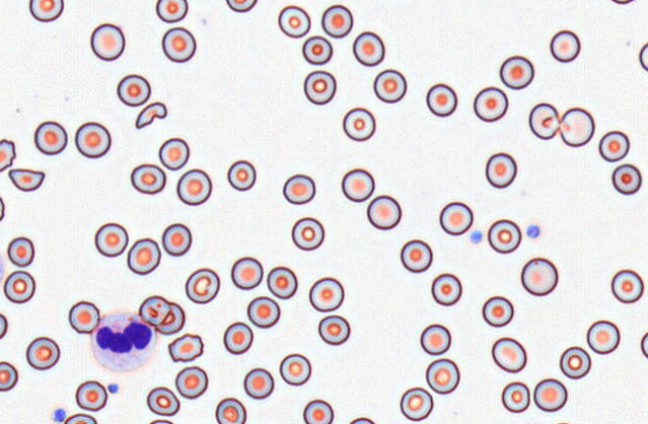GRAN: (91, 314, 154, 375)
PLT: (52, 409, 69, 423), (526, 222, 541, 237), (469, 230, 483, 243), (106, 383, 119, 394)
RBC: (520, 257, 558, 296), (559, 106, 595, 147), (74, 121, 111, 158), (90, 22, 125, 61), (176, 168, 212, 205), (308, 276, 344, 312), (127, 237, 161, 275), (491, 337, 526, 373), (366, 194, 401, 230), (473, 86, 508, 122), (161, 26, 196, 62), (425, 358, 459, 394), (185, 267, 219, 303), (25, 336, 60, 370), (399, 386, 433, 421), (94, 222, 128, 257), (487, 218, 521, 253), (610, 268, 644, 303), (586, 319, 620, 354), (373, 68, 407, 103), (33, 120, 67, 155), (499, 55, 534, 89), (174, 365, 208, 399), (533, 378, 567, 412), (439, 201, 473, 235), (342, 106, 375, 141), (528, 102, 559, 139), (246, 295, 280, 328), (341, 168, 374, 202), (116, 73, 150, 106), (303, 70, 336, 104), (291, 216, 324, 250), (352, 31, 384, 66), (130, 163, 166, 194), (485, 152, 516, 188), (230, 256, 263, 289), (277, 5, 310, 38), (400, 239, 432, 273), (321, 4, 353, 38), (425, 83, 457, 117), (68, 300, 100, 333), (3, 270, 35, 303), (559, 346, 591, 379), (279, 353, 311, 386), (266, 265, 297, 299), (481, 295, 513, 327), (158, 137, 189, 170), (317, 314, 350, 345), (431, 272, 462, 305), (282, 173, 315, 204), (549, 29, 580, 62), (146, 386, 180, 416), (161, 222, 191, 256), (168, 333, 203, 362), (75, 380, 107, 411), (420, 323, 451, 355), (243, 367, 274, 399), (611, 163, 642, 195), (598, 130, 629, 162), (223, 321, 253, 354), (501, 381, 530, 413), (227, 159, 256, 191), (302, 35, 332, 65), (7, 236, 34, 267), (215, 397, 246, 423), (29, 0, 64, 22), (302, 399, 333, 423), (155, 0, 188, 22), (0, 360, 18, 391), (0, 138, 15, 172), (225, 0, 257, 12), (63, 413, 97, 424), (638, 41, 648, 71), (640, 330, 648, 358), (0, 312, 8, 339), (348, 416, 375, 423), (0, 252, 5, 283), (0, 194, 5, 222), (148, 418, 173, 423), (608, 0, 637, 4), (549, 421, 575, 424), (189, 0, 216, 2)
Schistocyte: (140, 295, 172, 325), (135, 102, 169, 130), (7, 168, 45, 193)
